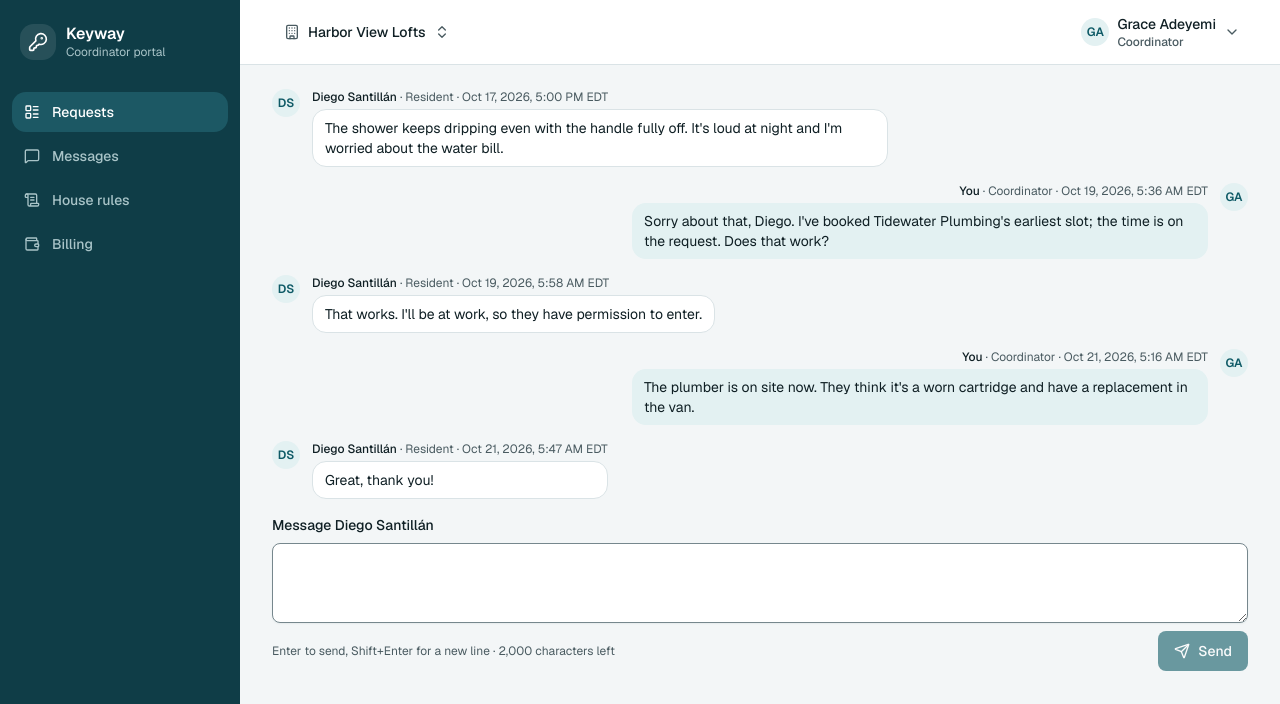
MessageThread › keeps a sent message when an older poll lands after it
The image size is (1280, 704).
Type "On my way." into the text box labelled "Message Diego Santillán" at (760,583), box [272,543,1248,623]
Then press Enter
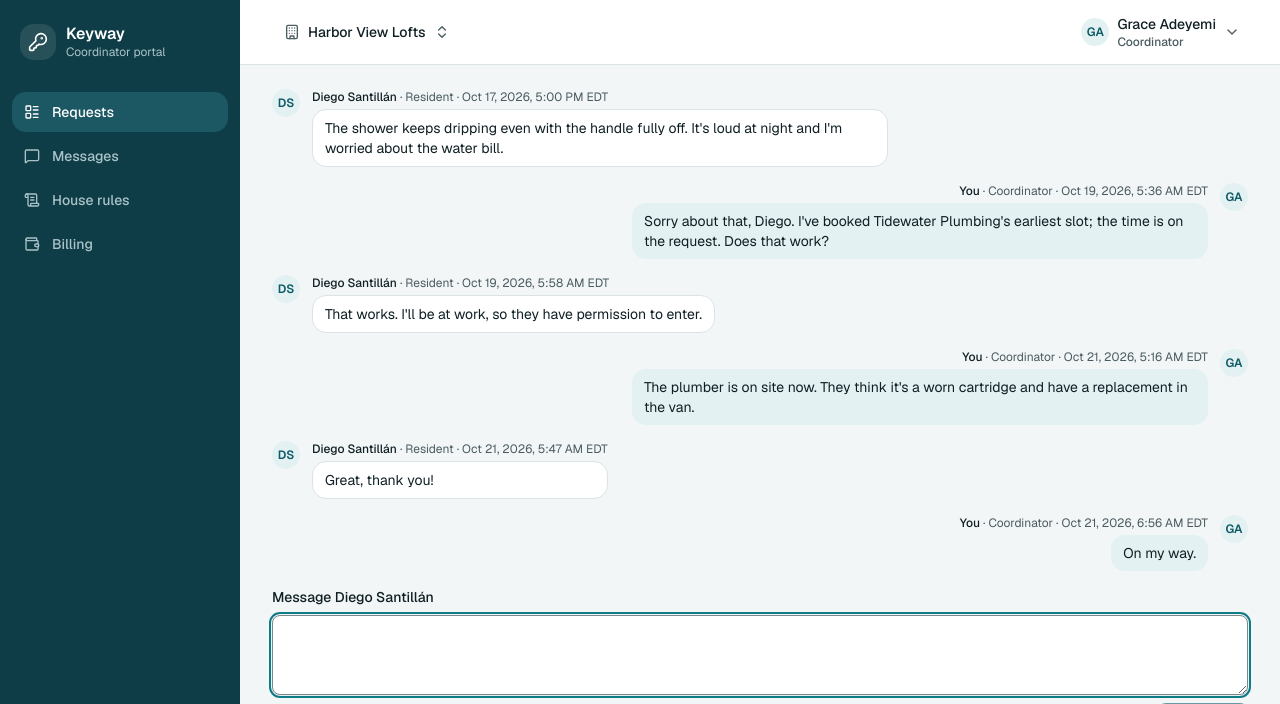
Check: the text "On my way." is shown, box [1111,535,1208,571]
